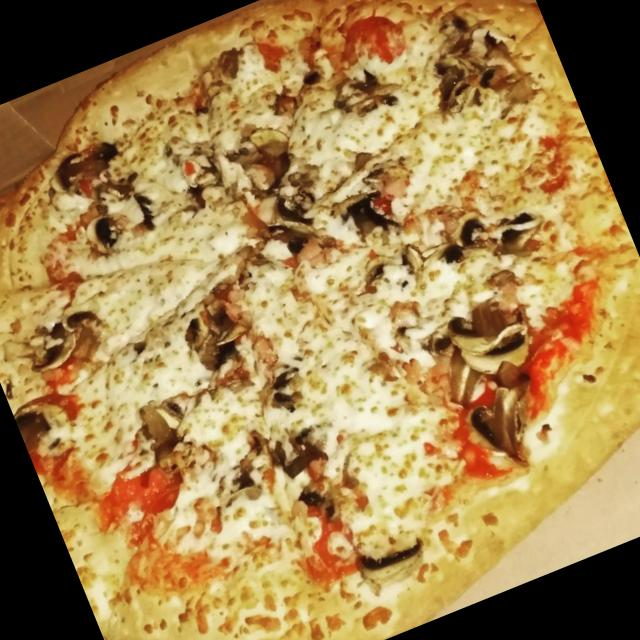mushrooms: (446, 298, 546, 394), (460, 380, 555, 480), (422, 22, 522, 114), (273, 422, 351, 532), (240, 178, 332, 270), (170, 290, 264, 377), (222, 117, 309, 206), (68, 173, 158, 258), (343, 528, 438, 602), (128, 392, 200, 480), (459, 198, 551, 264), (15, 384, 84, 472), (333, 176, 407, 256), (34, 138, 114, 206), (18, 309, 88, 378), (334, 63, 398, 119), (258, 363, 312, 416), (392, 236, 438, 294), (179, 145, 227, 196)
pizza: (0, 0, 640, 640)
